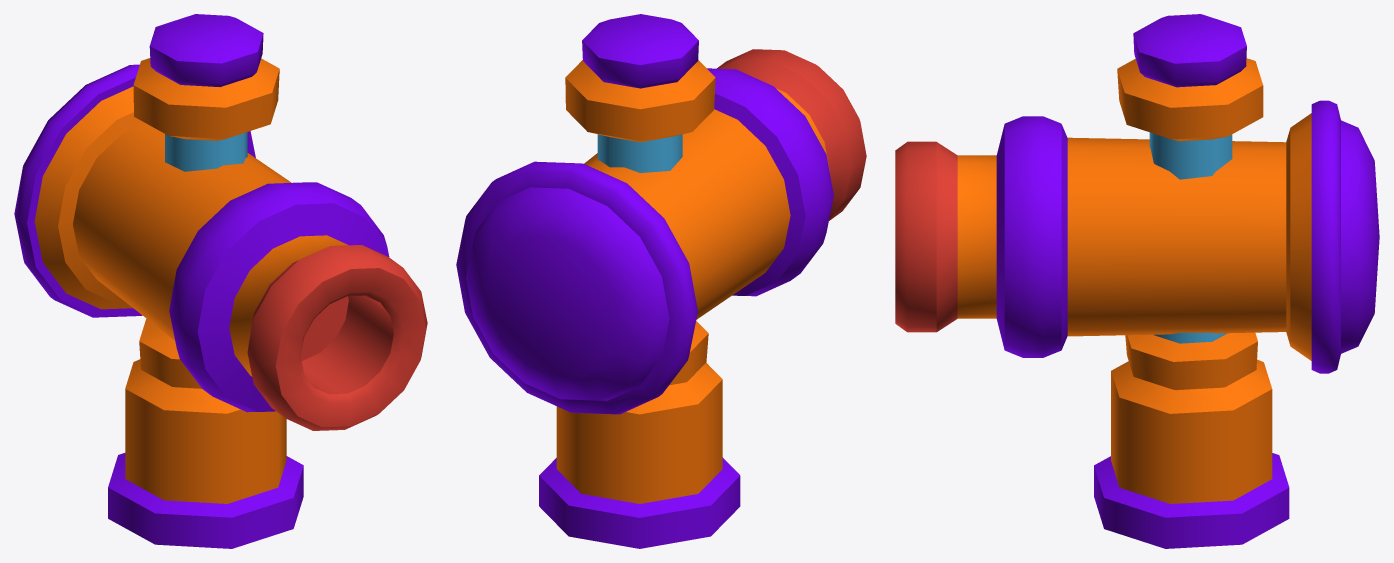
Rendered from Flamethrower_01.fbx.
3 views of the same model, side by side, from view 1: azimuth 30°, elevation 25°; view 2: azimuth 150°, elevation 25°; view 3: azimuth 270°, elevation 25° (orthographic).
Parts seen in each view (by area): view 1: Obstacle_Flamethrower_01; view 2: Obstacle_Flamethrower_01; view 3: Obstacle_Flamethrower_01.
Part boxes in pixels (box(x1,y1,x2,y2)): Obstacle_Flamethrower_01: box(14, 14, 427, 548); Obstacle_Flamethrower_01: box(456, 14, 866, 548); Obstacle_Flamethrower_01: box(895, 14, 1379, 548).
Bounding box in the file's own units: 59.56 × 114 × 106.
Materials: 1 (1 with a texture image).
